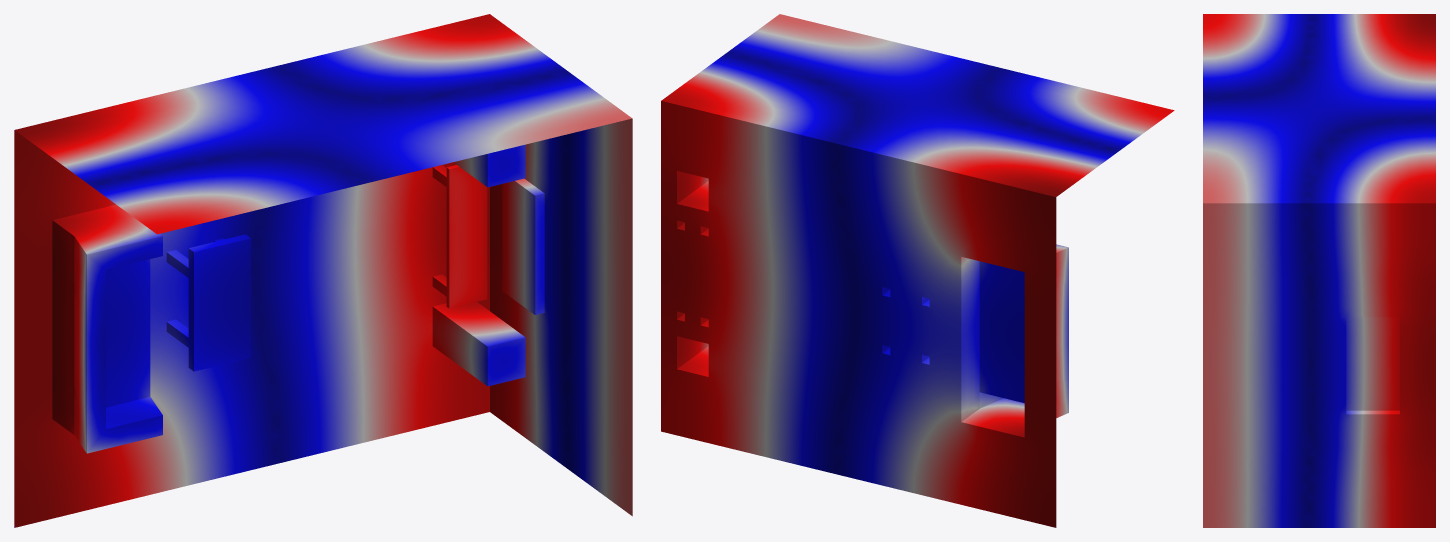
File: submarine5.glb
3 views of the same model, side by side, from view 1: azimuth 30°, elevation 25°; view 2: azimuth 150°, elevation 25°; view 3: azimuth 270°, elevation 25° (orthographic). The views are drawn at different scales.
Visible parts, largest first — view 1: Mesh_0; view 2: Mesh_0; view 3: Mesh_0.
Part boxes in pixels (x1,y1,x2,y2): Mesh_0: (14,14,632,527); Mesh_0: (661,14,1174,527); Mesh_0: (1203,14,1435,527).
Bounding box in the file's own units: 5 × 4 × 2.6.
Materials: 1 (1 with a texture image).
